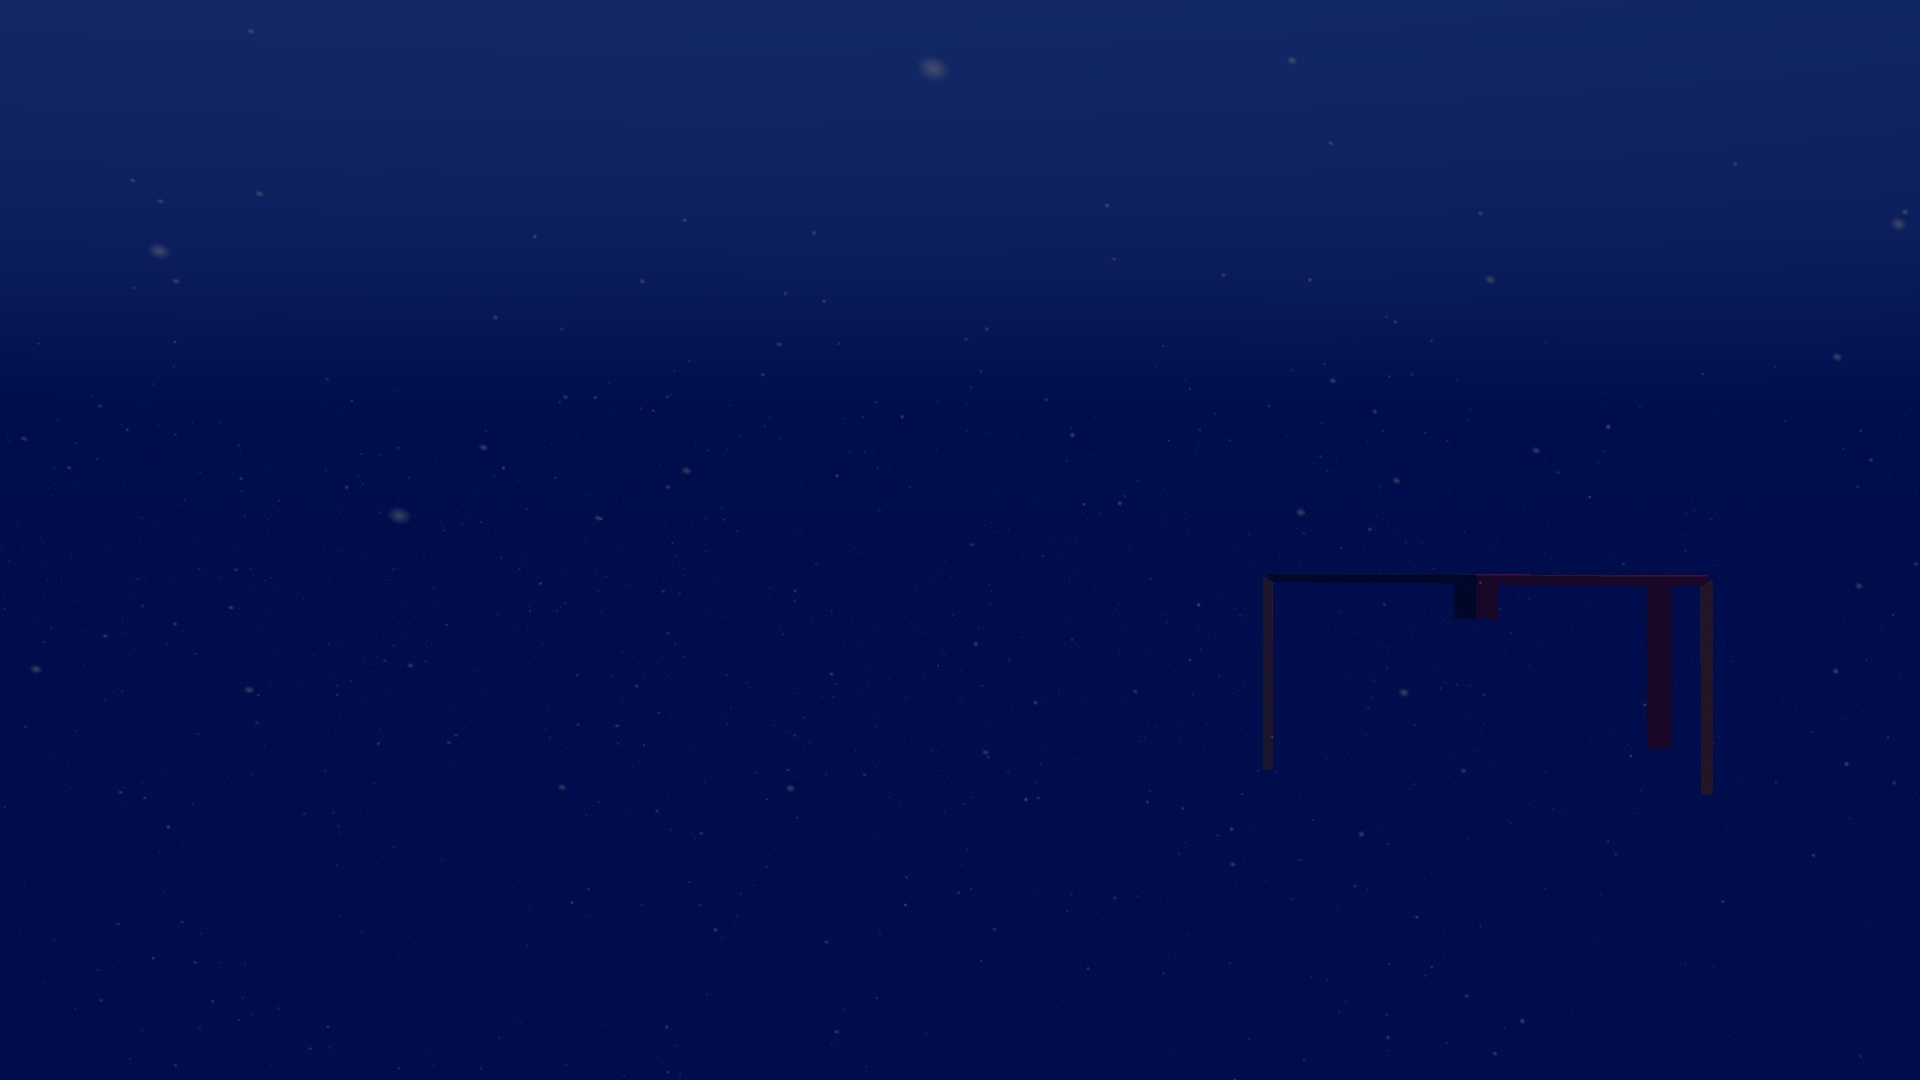Gate: (1254, 566, 1720, 807)
